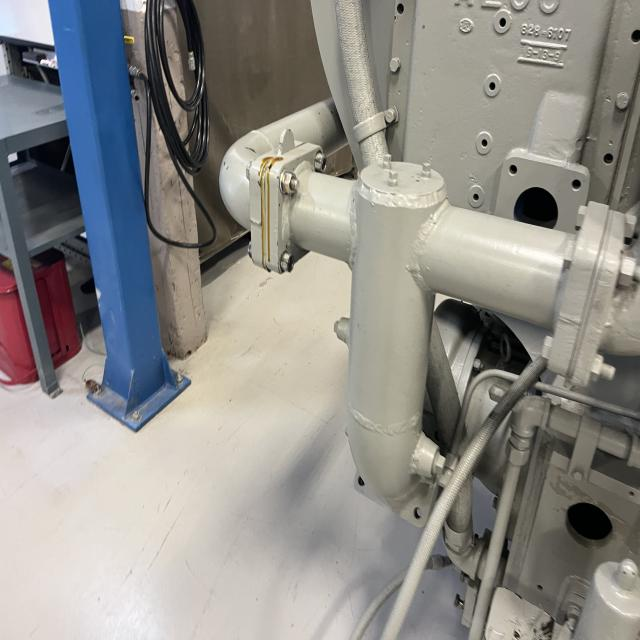Oil Leak: (258, 156, 284, 271)
